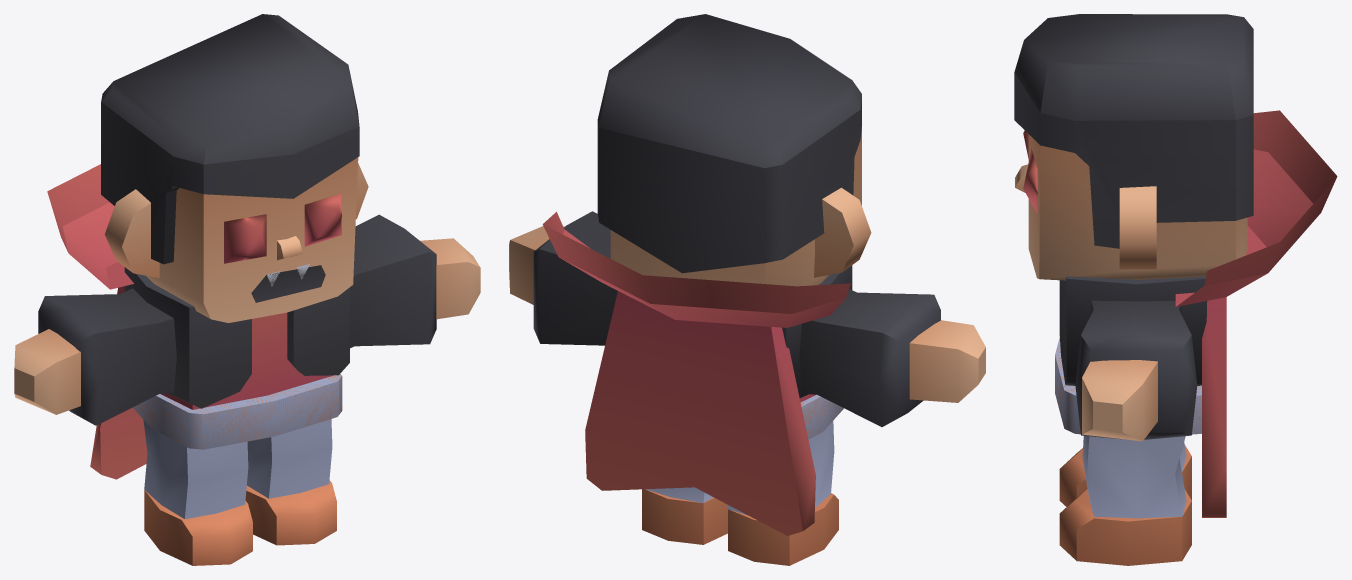
The model's file is cc0-vampire-lod1.glb.
3 renders of one model, left to right at view 1: azimuth 30°, elevation 25°; view 2: azimuth 150°, elevation 25°; view 3: azimuth 270°, elevation 25°, orthographic. The views are drawn at different scales.
Parts seen in each view (by area): view 1: part_4, part_1, part_2, part_3, part_5, part_6; view 2: part_4, part_1, part_2, part_3, part_5, part_6; view 3: part_4, part_1, part_3, part_6, part_5.
Part boxes in pixels (x1,y1,x2,y2): part_4: (101, 14, 368, 322); part_1: (47, 164, 349, 479); part_2: (14, 288, 176, 425); part_3: (350, 214, 480, 348); part_5: (143, 420, 252, 565); part_6: (245, 419, 336, 545); part_4: (597, 14, 871, 286); part_1: (542, 211, 852, 535); part_2: (799, 289, 985, 426); part_3: (509, 211, 617, 345); part_5: (728, 421, 838, 565); part_6: (642, 487, 727, 544); part_4: (1014, 14, 1253, 280); part_1: (1055, 110, 1337, 517); part_3: (1075, 300, 1197, 441); part_6: (1059, 436, 1191, 565); part_5: (1059, 442, 1191, 506).
Size of the model in its own units: 0.8103 by 0.7795 by 0.4546.
Materials: 1 (1 with a texture image).
